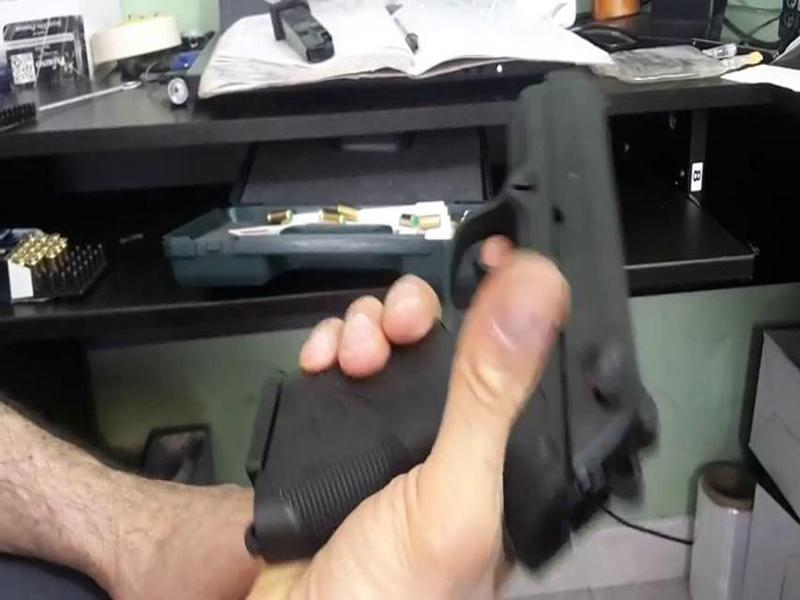Pistola: (241, 74, 669, 546)
